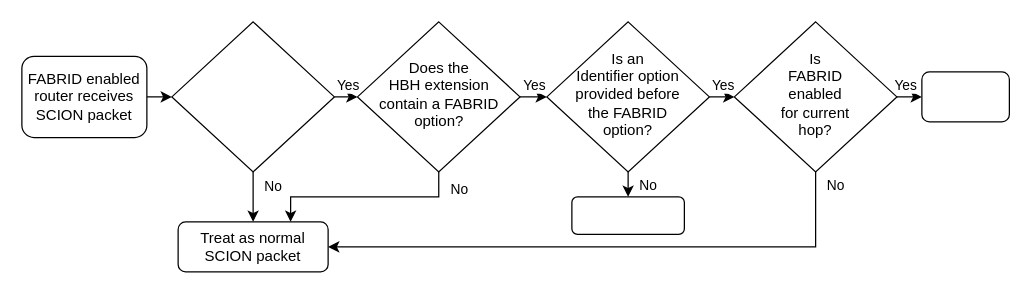
Some shapes in this 1031 by 294 pixel diagram are drawn without their labels. Each missing label, with the centre of its shape:
"Does the packet contain an HBH extension?" belongs at (x=252, y=96).
"Drop packet" belongs at (x=627, y=215).
"Process FABRID" belongs at (x=965, y=96).
